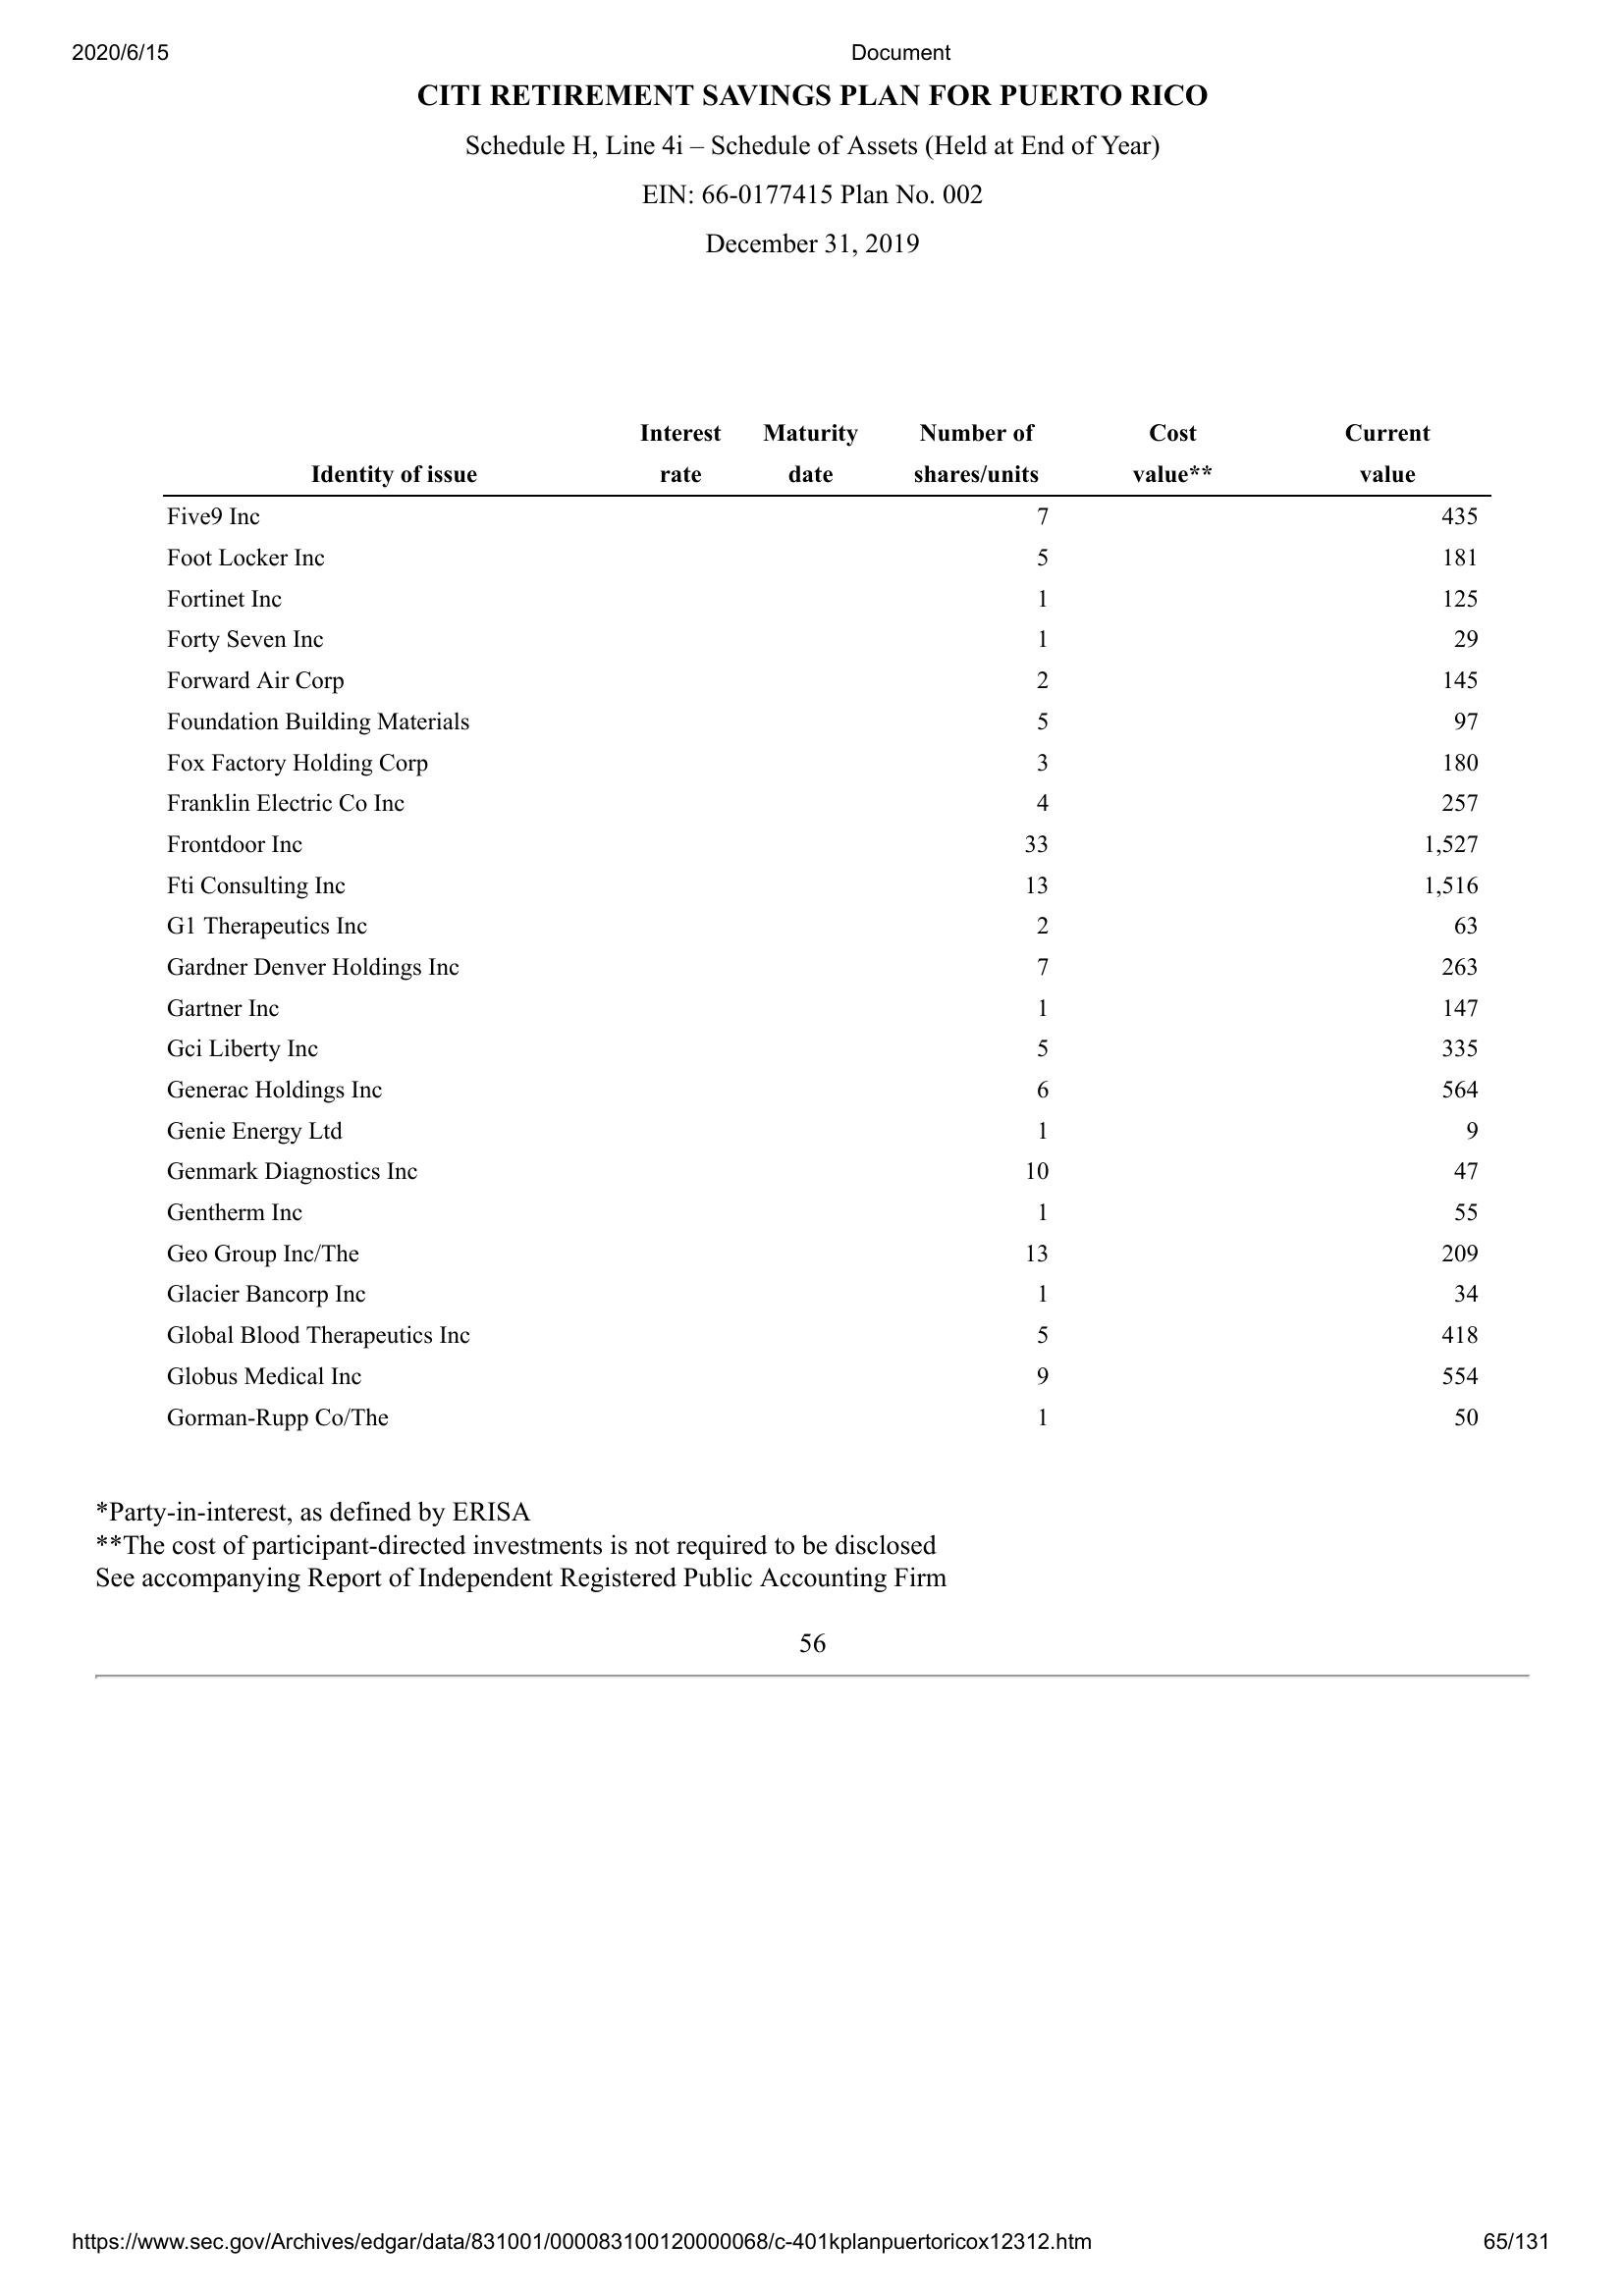table: (160, 420, 1491, 1434)
